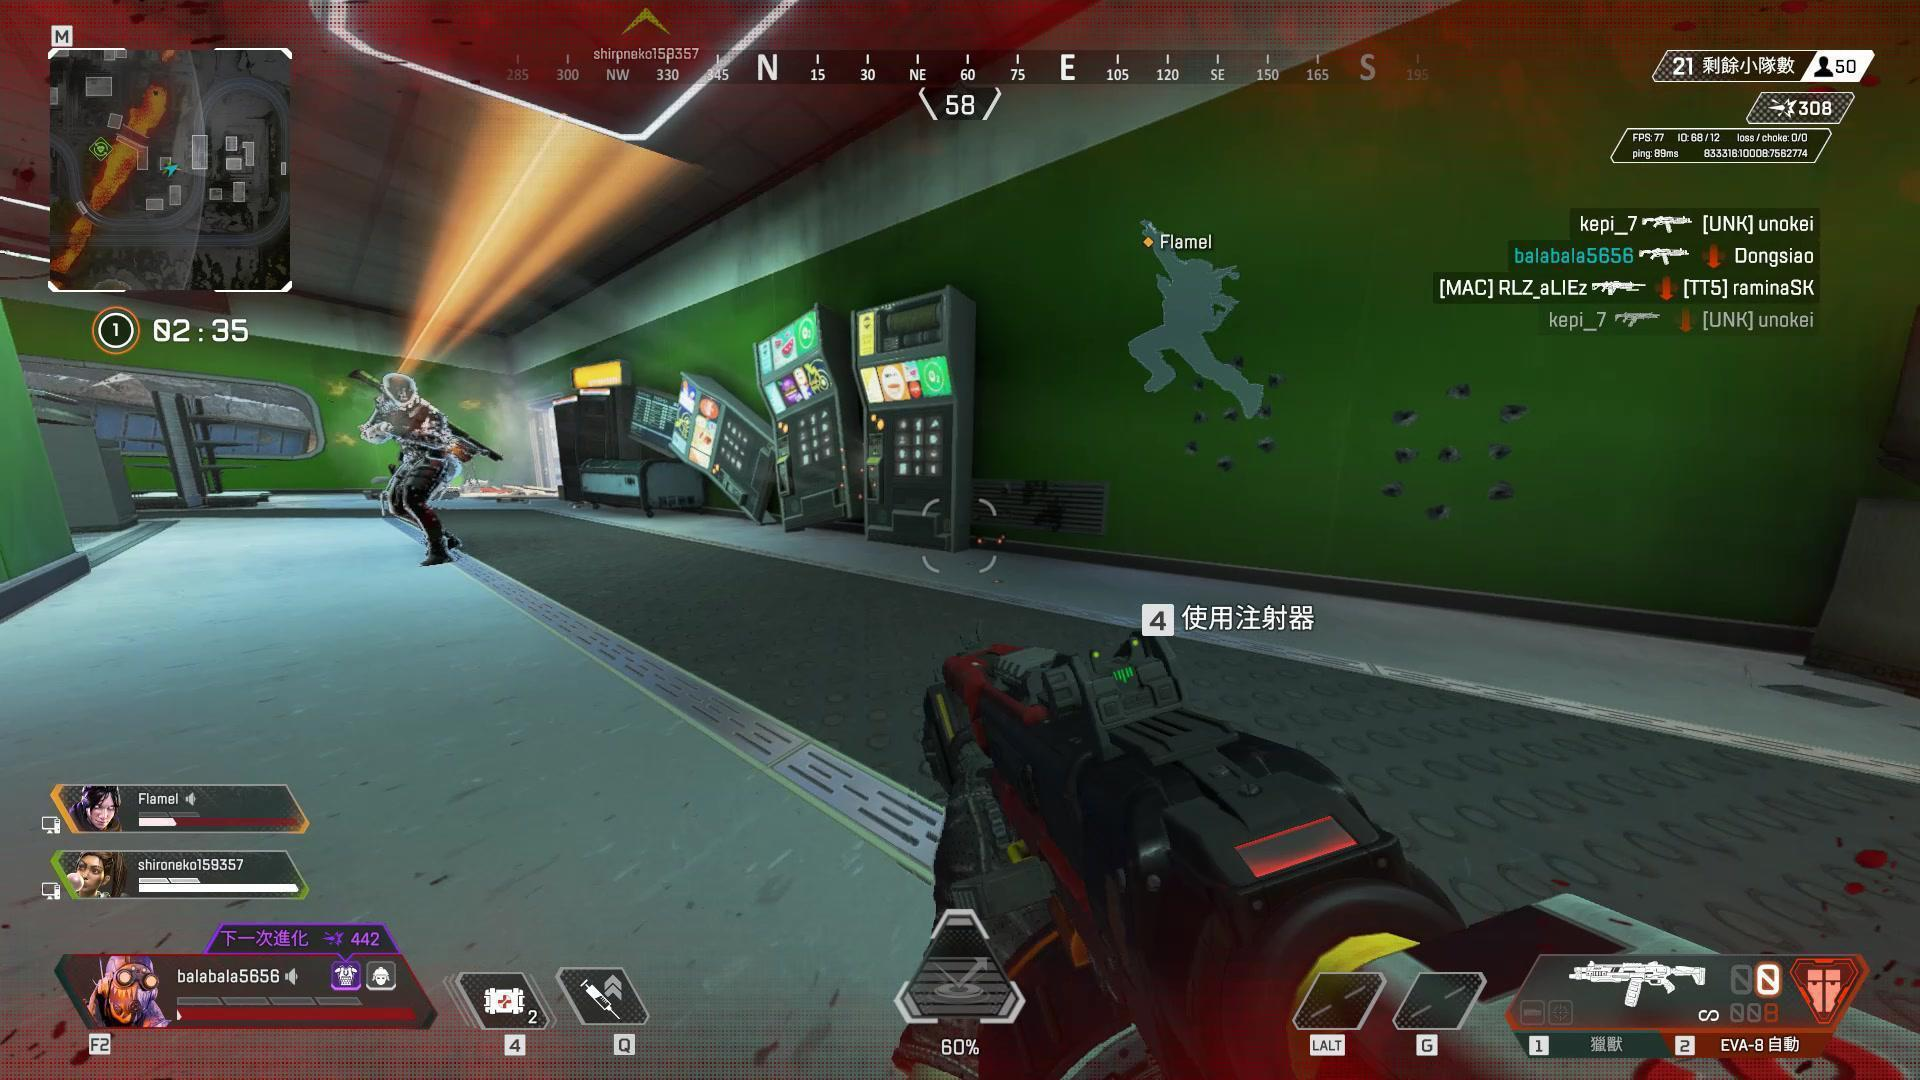avatar: (356, 372, 459, 571)
